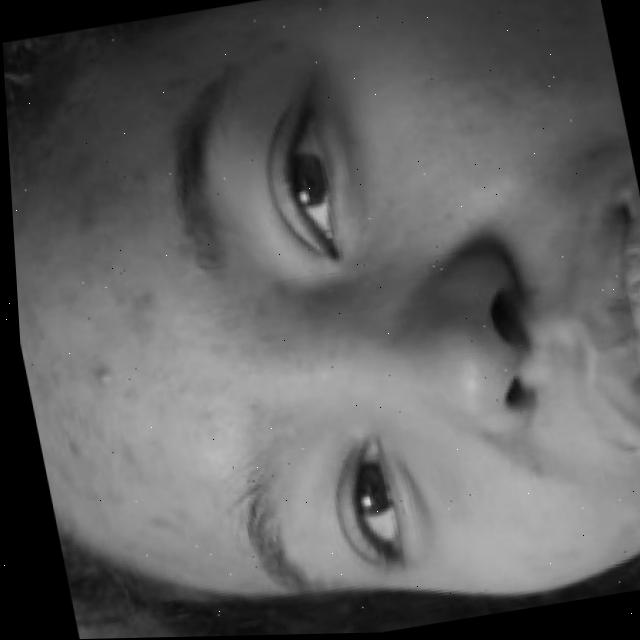Acne: (2, 33, 297, 570)
